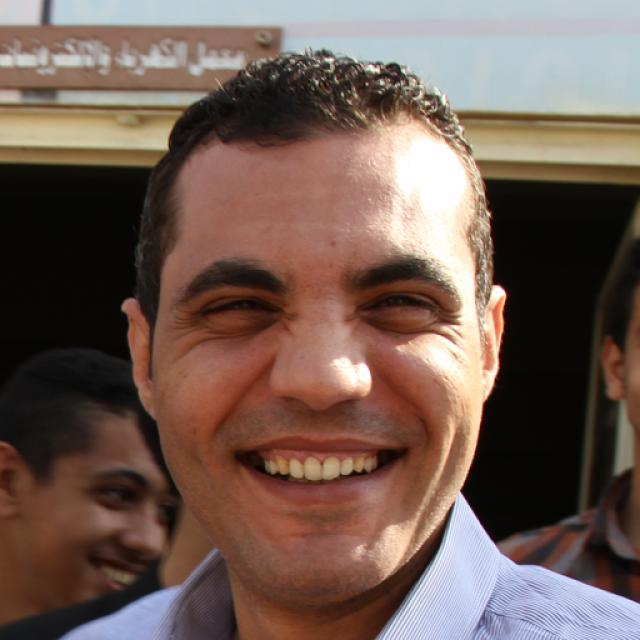happy: (152, 127, 484, 604), (24, 414, 170, 604)
